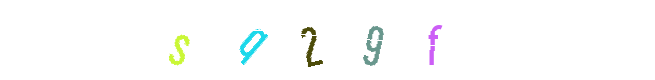2: (271, 0, 351, 80)
9: (288, 0, 368, 80)
F: (350, 0, 430, 80)
Q: (211, 0, 291, 80)
S: (139, 0, 219, 80)
